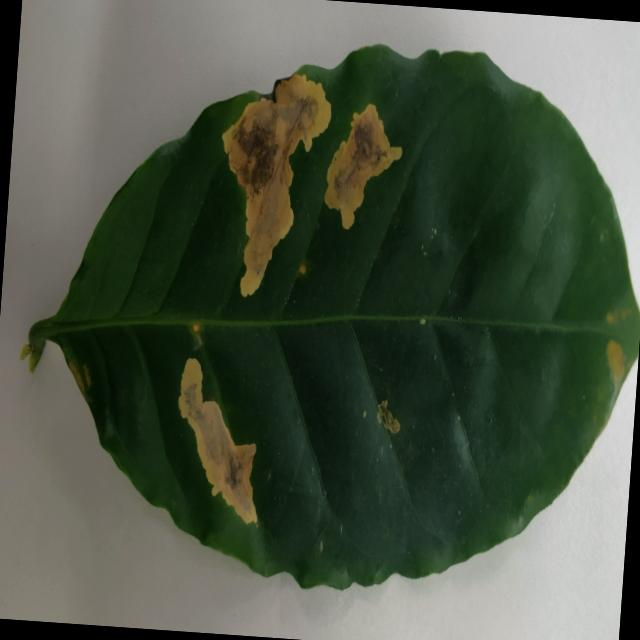KaratDaunKopi: (222, 75, 330, 296), (178, 358, 257, 522), (324, 103, 402, 229), (606, 339, 626, 394), (378, 400, 400, 433), (68, 360, 85, 396), (82, 363, 91, 388)
